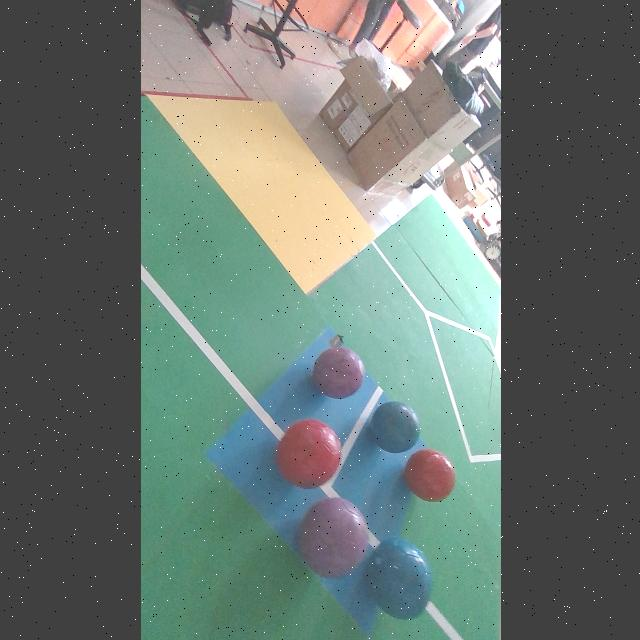B: (365, 538, 431, 620), (370, 402, 419, 453)
P: (298, 497, 368, 578), (311, 346, 364, 399)
R: (275, 420, 341, 489), (402, 448, 454, 502)
